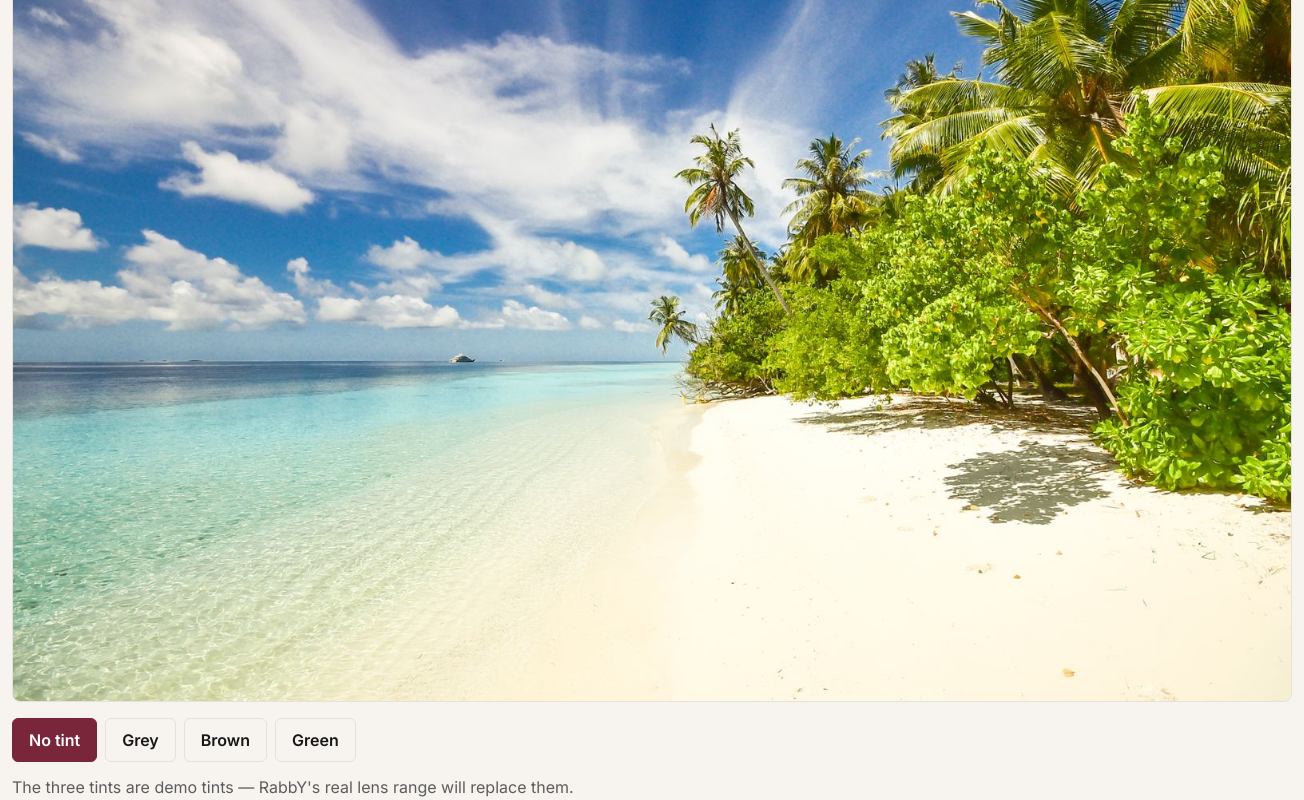
it: LensSimulator — tint preview (S-7, 1.x-7) › starts with no tint and switches the preview when a tint is picked
(page scrolled)
Expected: the text "Neutral Grey. Colours stay truest." is not shown
Click the button "Grey" at (140, 740), box left=105, top=718, right=176, bottom=762
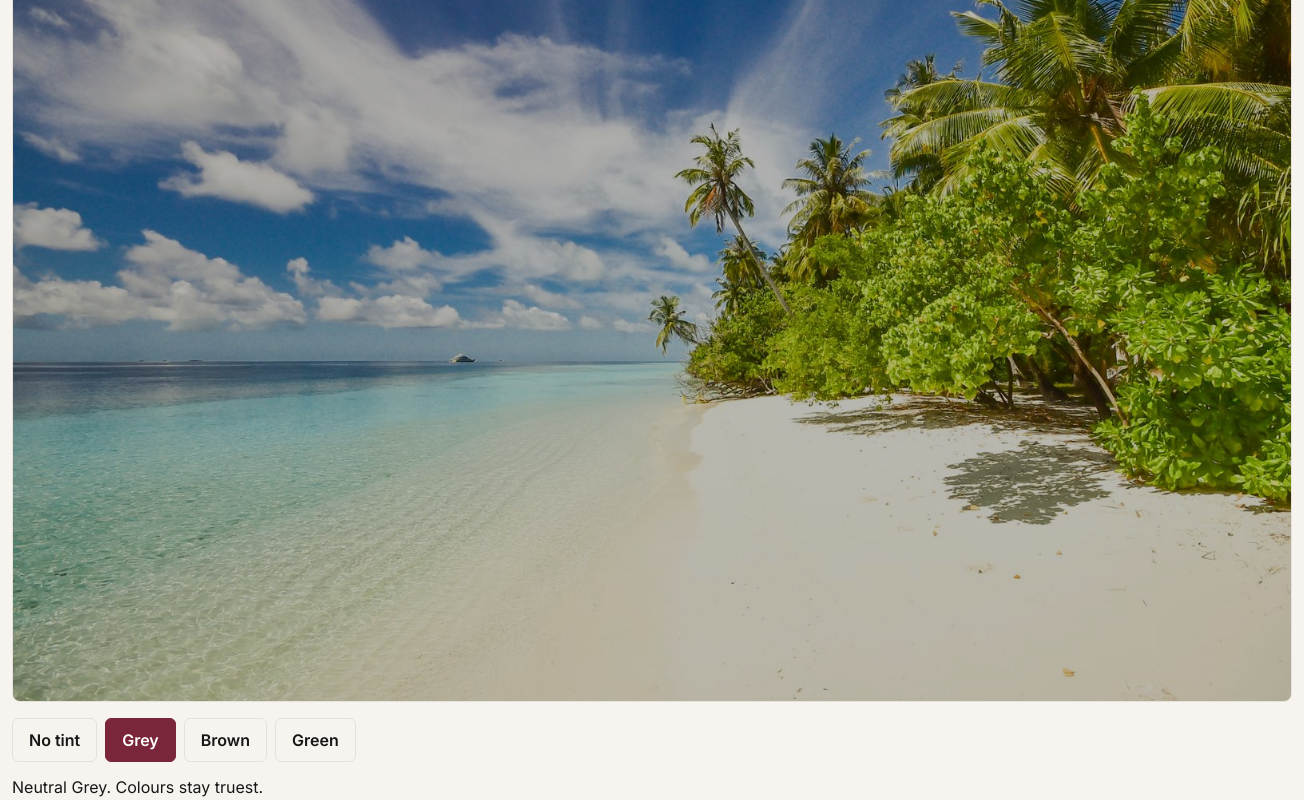
Expected: the text "Neutral Grey. Colours stay truest." is shown, left=12, top=777, right=263, bottom=797
